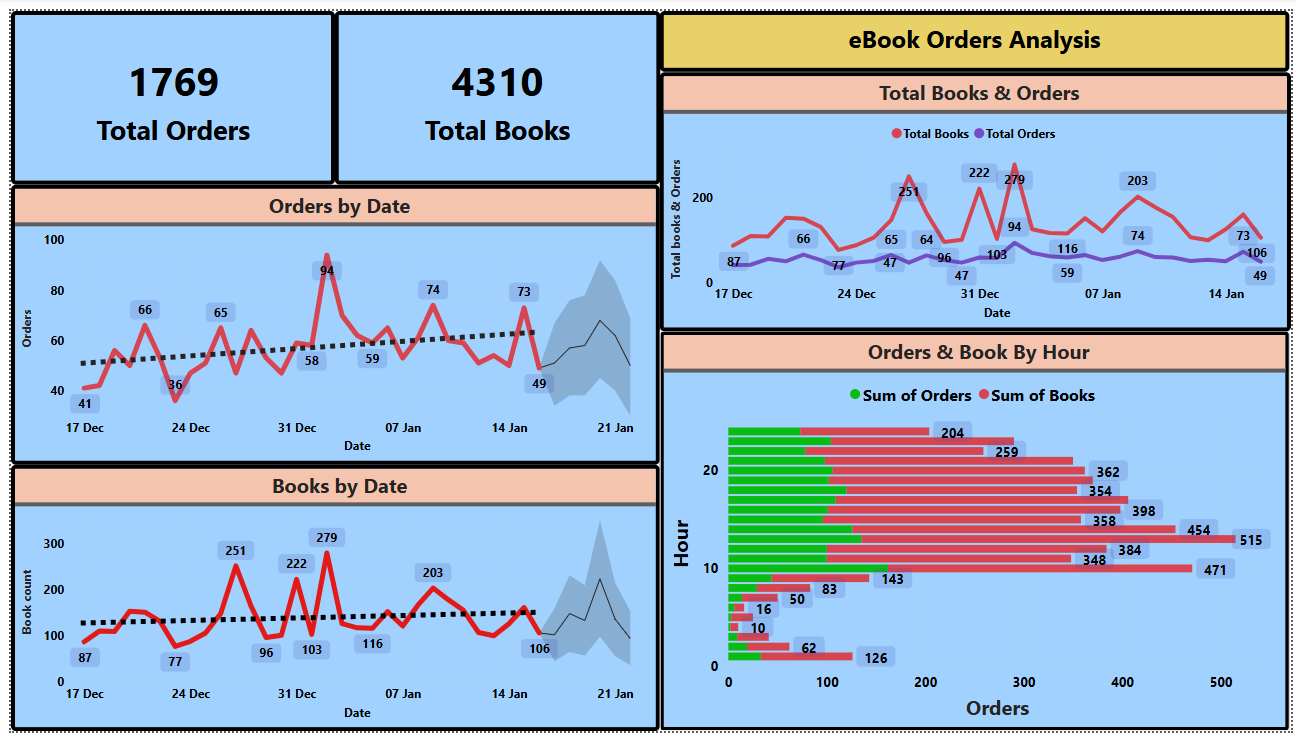

The dashboard page shown, as its layout file describes it:
{"tool":"powerbi","page":{"name":"Page 1","canvas":[1280,720],"ordinal":0},"visuals":[{"type":"lineChart","title":"Orders by Date","fields":{"Category":["Date Table.Date"],"Y":["Sum(Sorted by Date.OrdersCount)"]},"box":[0,174.3,649.1,279.9],"z":0},{"type":"lineChart","title":"Books by Date","fields":{"Category":["Date Table.Date"],"Y":["Sum(Sorted by Date.BooksCount)"]},"box":[0,454.2,649.1,266.2],"z":1000},{"type":"barChart","title":"Orders & Book By Hour","fields":{"Category":["Sorted by Date.Hour"],"Y":["Sum(Sorted by Date.Orders)","Sum(Sorted by Date.Books)"]},"box":[649.3,320.4,629.8,399.9],"z":2000},{"type":"card","fields":{"Values":["Sorted by Date.Total Orders"]},"box":[0,0,324.1,173.6],"z":3000},{"type":"card","fields":{"Values":["Sorted by Date.Total Books"]},"box":[324.1,0,325.3,173.6],"z":4000},{"type":"textbox","box":[649.3,0,629.8,61.1],"z":5000},{"type":"lineChart","title":"Total Books & Orders","fields":{"Category":["Date Table.Date"],"Y":["Sorted by Date.Total Books","Sorted by Date.Total Orders"]},"box":[649.3,61.1,631,259.2],"z":6000}]}

Visuals, with their boxes in screenshot pixels (x1, y1, x2, y2), scaled from the page's 1280x720 canvas onto the 1296x737 screenshot:
"Orders by Date" lineChart: (0,178,657,465)
"Books by Date" lineChart: (0,465,657,736)
"Orders & Book By Hour" barChart: (657,328,1295,736)
card - Sorted by Date.Total Orders: (0,0,328,178)
card - Sorted by Date.Total Books: (328,0,658,178)
textbox: (657,0,1295,63)
"Total Books & Orders" lineChart: (657,63,1295,328)
